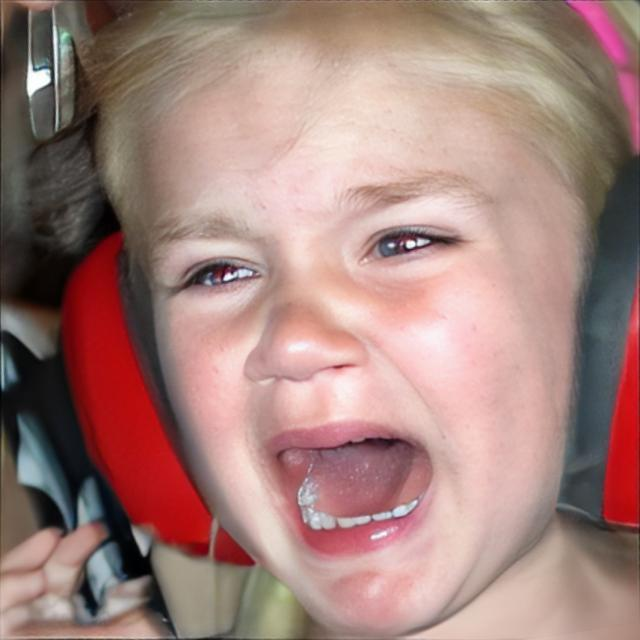fear: (142, 35, 574, 616)
